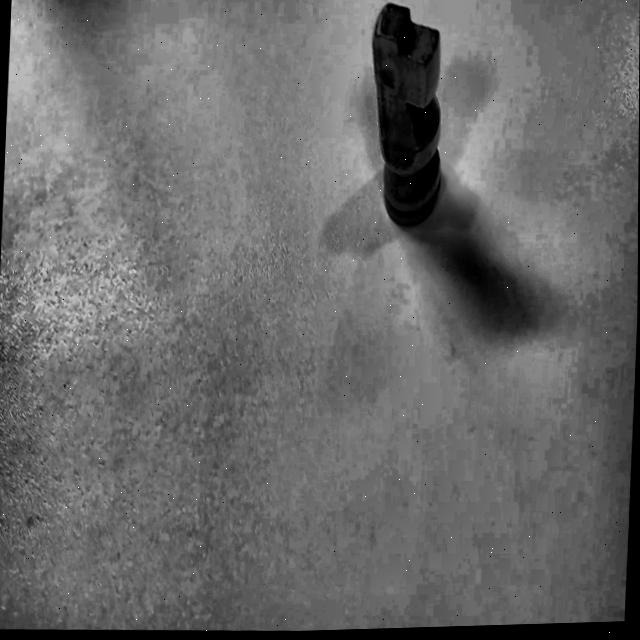black-knight: (355, 0, 463, 250)
